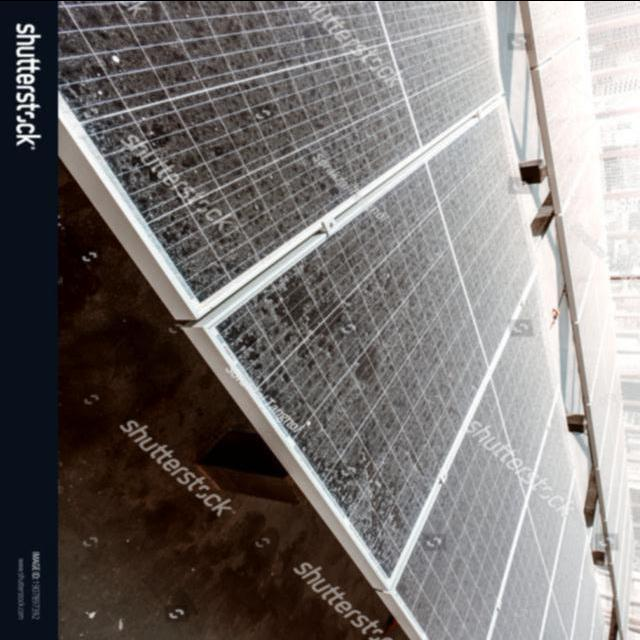soiled: (55, 6, 628, 640)
